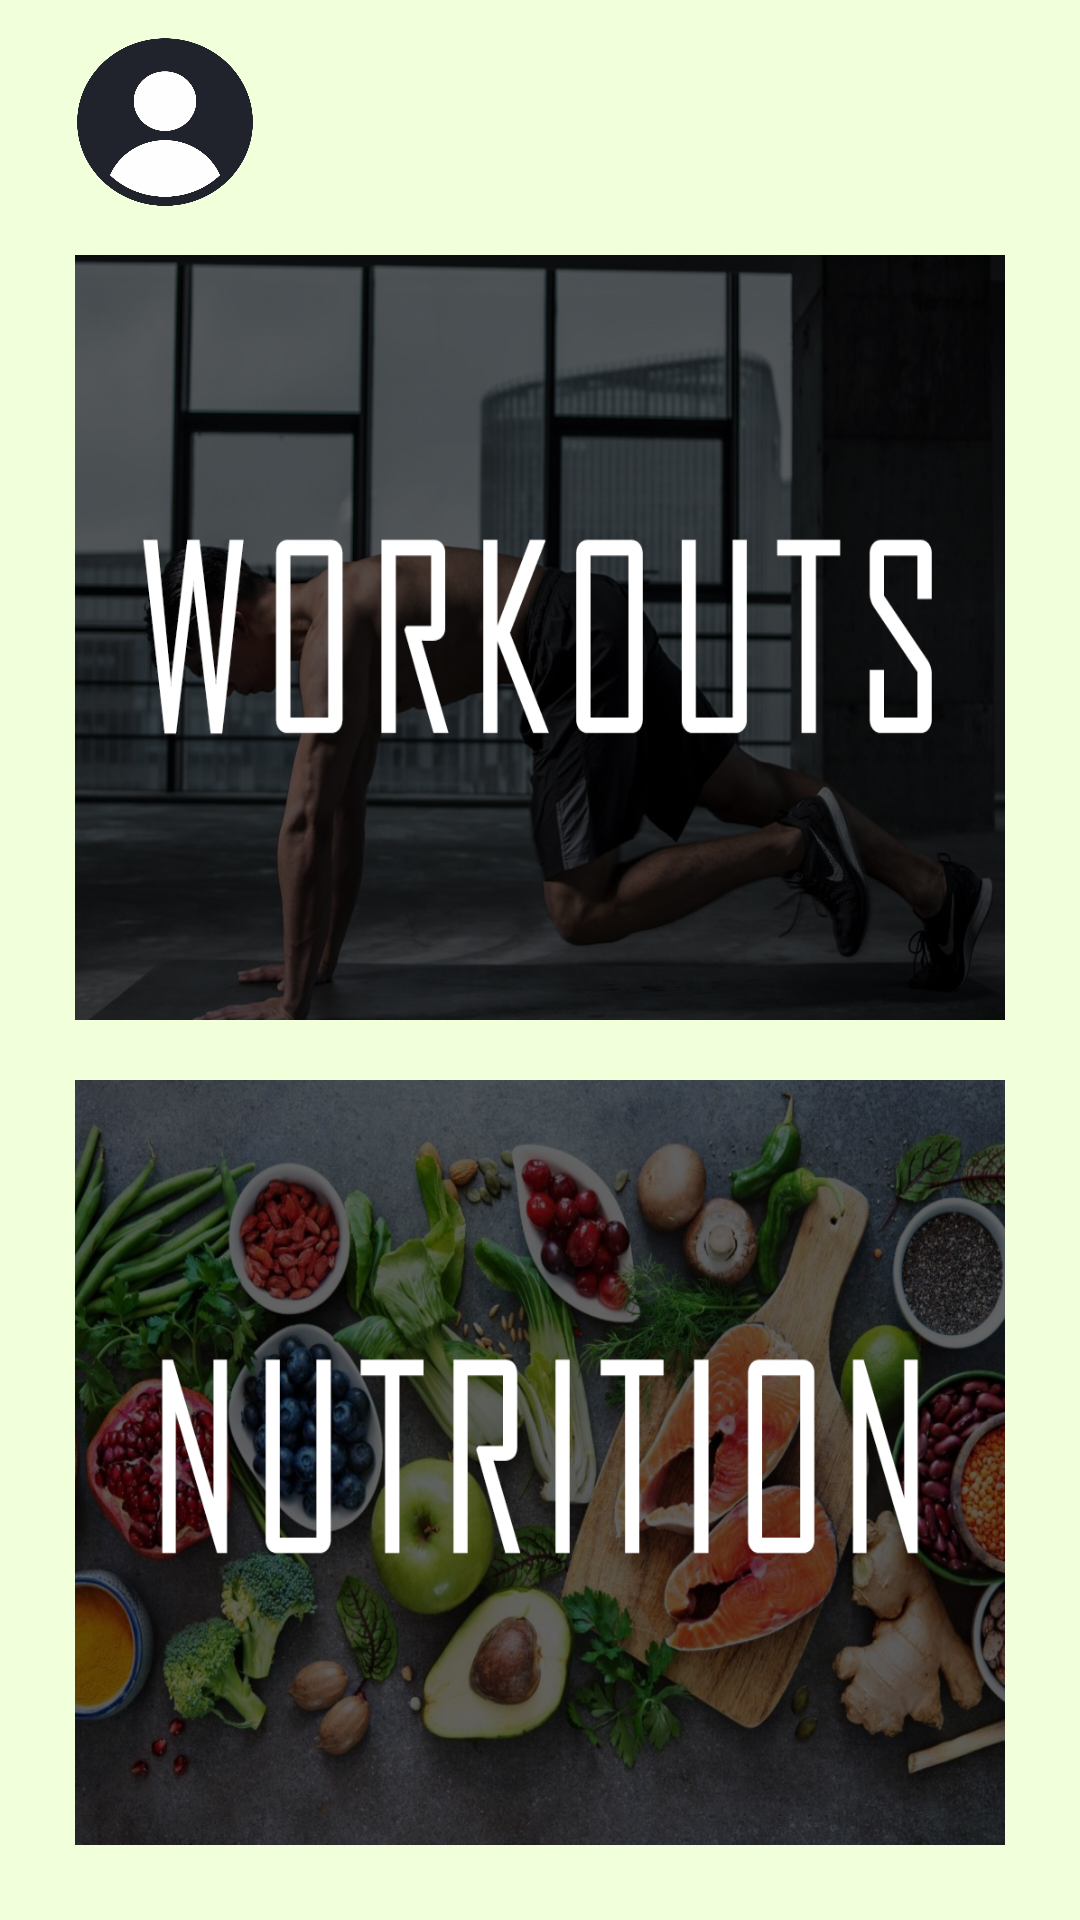

Named icons in this screenshot (1080x1920) and their bounding boxes, bbox=[x1, y1, x2, y2]:
profile: bbox=[77, 38, 253, 206]
